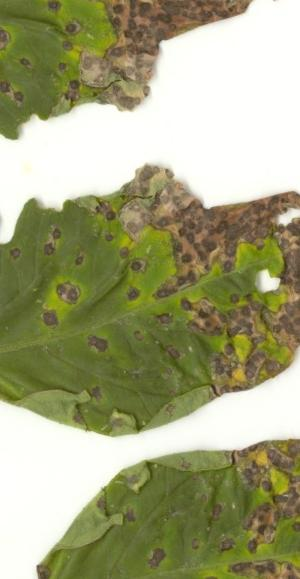Tomato Septoria leaf spot: (0, 87, 300, 500)
